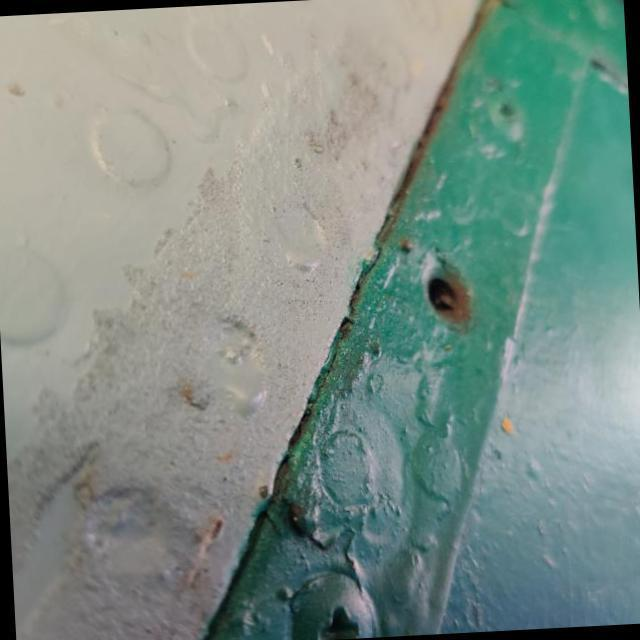Fastener Damage: (391, 232, 502, 354)
